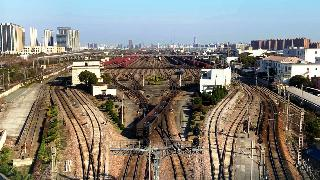train: (136, 96, 173, 138)
